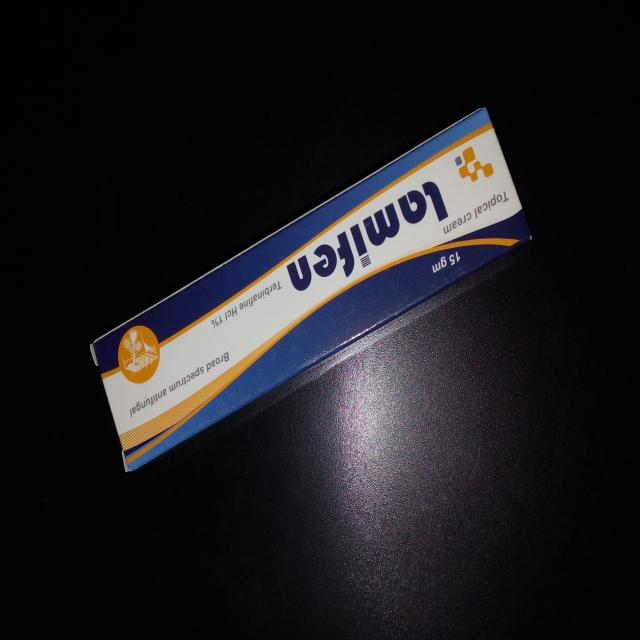Medicine: (85, 99, 538, 482)
